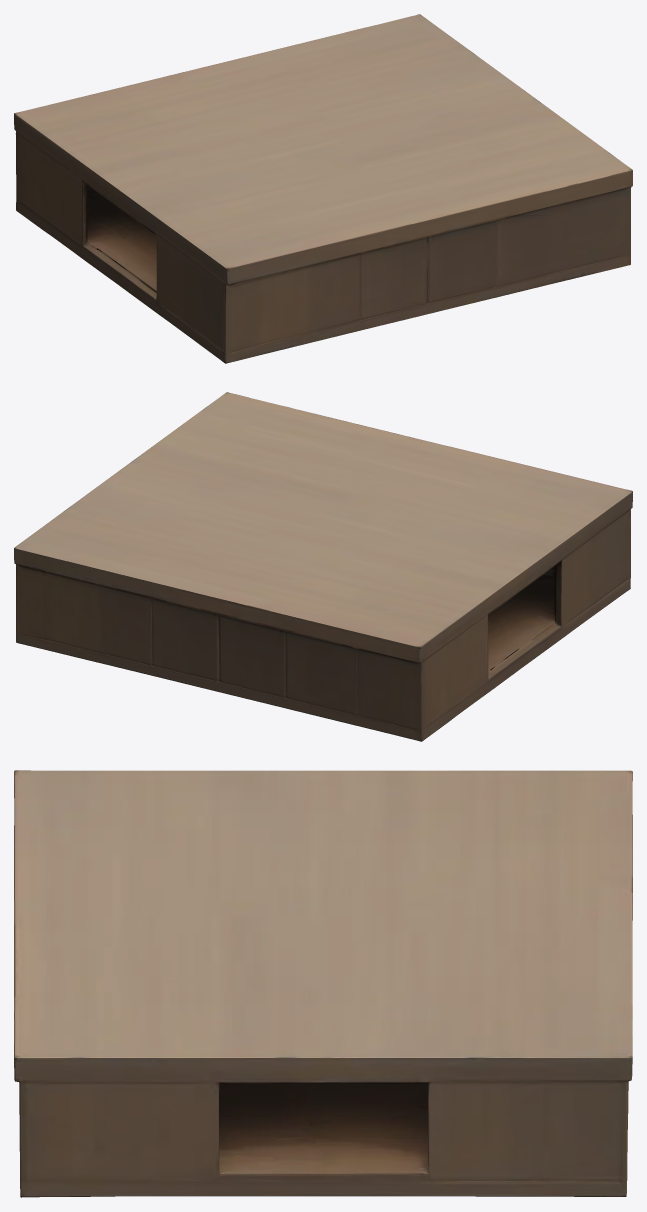
Rendered from platform_box_brown.glb.
3 renders of one model, top to bottom at view 1: azimuth 30°, elevation 25°; view 2: azimuth 150°, elevation 25°; view 3: azimuth 270°, elevation 25°, orthographic. The views are drawn at different scales.
Parts seen in each view (by area): view 1: geometry_0; view 2: geometry_0; view 3: geometry_0.
Part boxes in pixels (left/top/right/bottom): geometry_0: left=14, top=14, right=632, bottom=363; geometry_0: left=14, top=392, right=632, bottom=741; geometry_0: left=14, top=770, right=632, bottom=1197.
Bounding box in the file's own units: 1 × 0.2275 × 0.91.
1 material, 1 textured.
